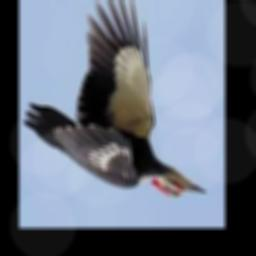Woodpecker: (23, 0, 207, 198)
